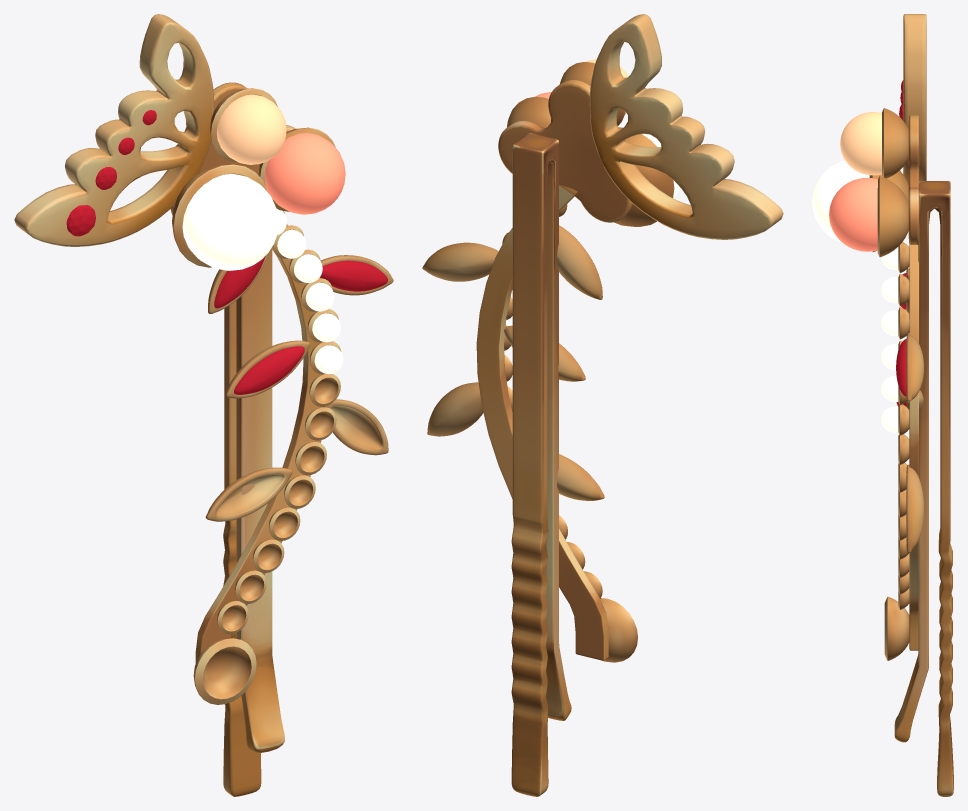
The picture shows the model from 3 angles, left to right: view 1: azimuth 30°, elevation 25°; view 2: azimuth 150°, elevation 25°; view 3: azimuth 270°, elevation 25°; orthographic projection. The views are drawn at different scales.
Parts seen in each view (by area): view 1: hairakuse; view 2: hairakuse; view 3: hairakuse.
Part boxes in pixels (<box>): hairakuse: <box>14,14,393,796</box>; hairakuse: <box>422,14,783,796</box>; hairakuse: <box>812,14,953,796</box>.
Size of the model in its own units: 72.64 by 152 by 26.6.
